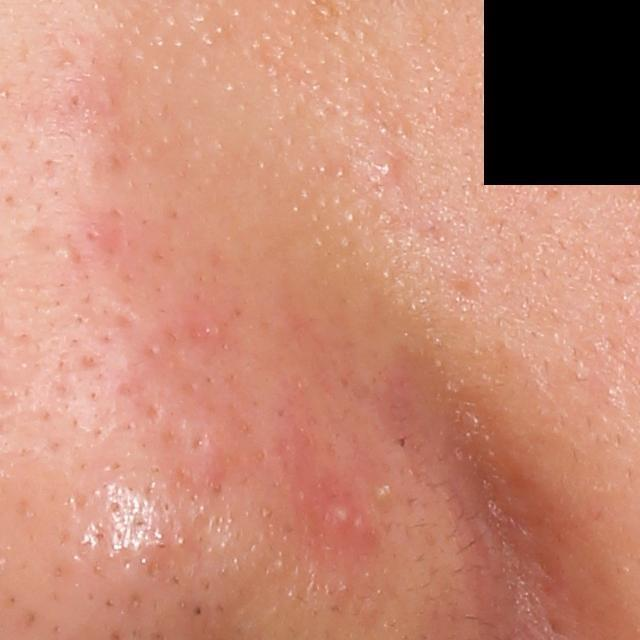pustule: (327, 495, 357, 526)
